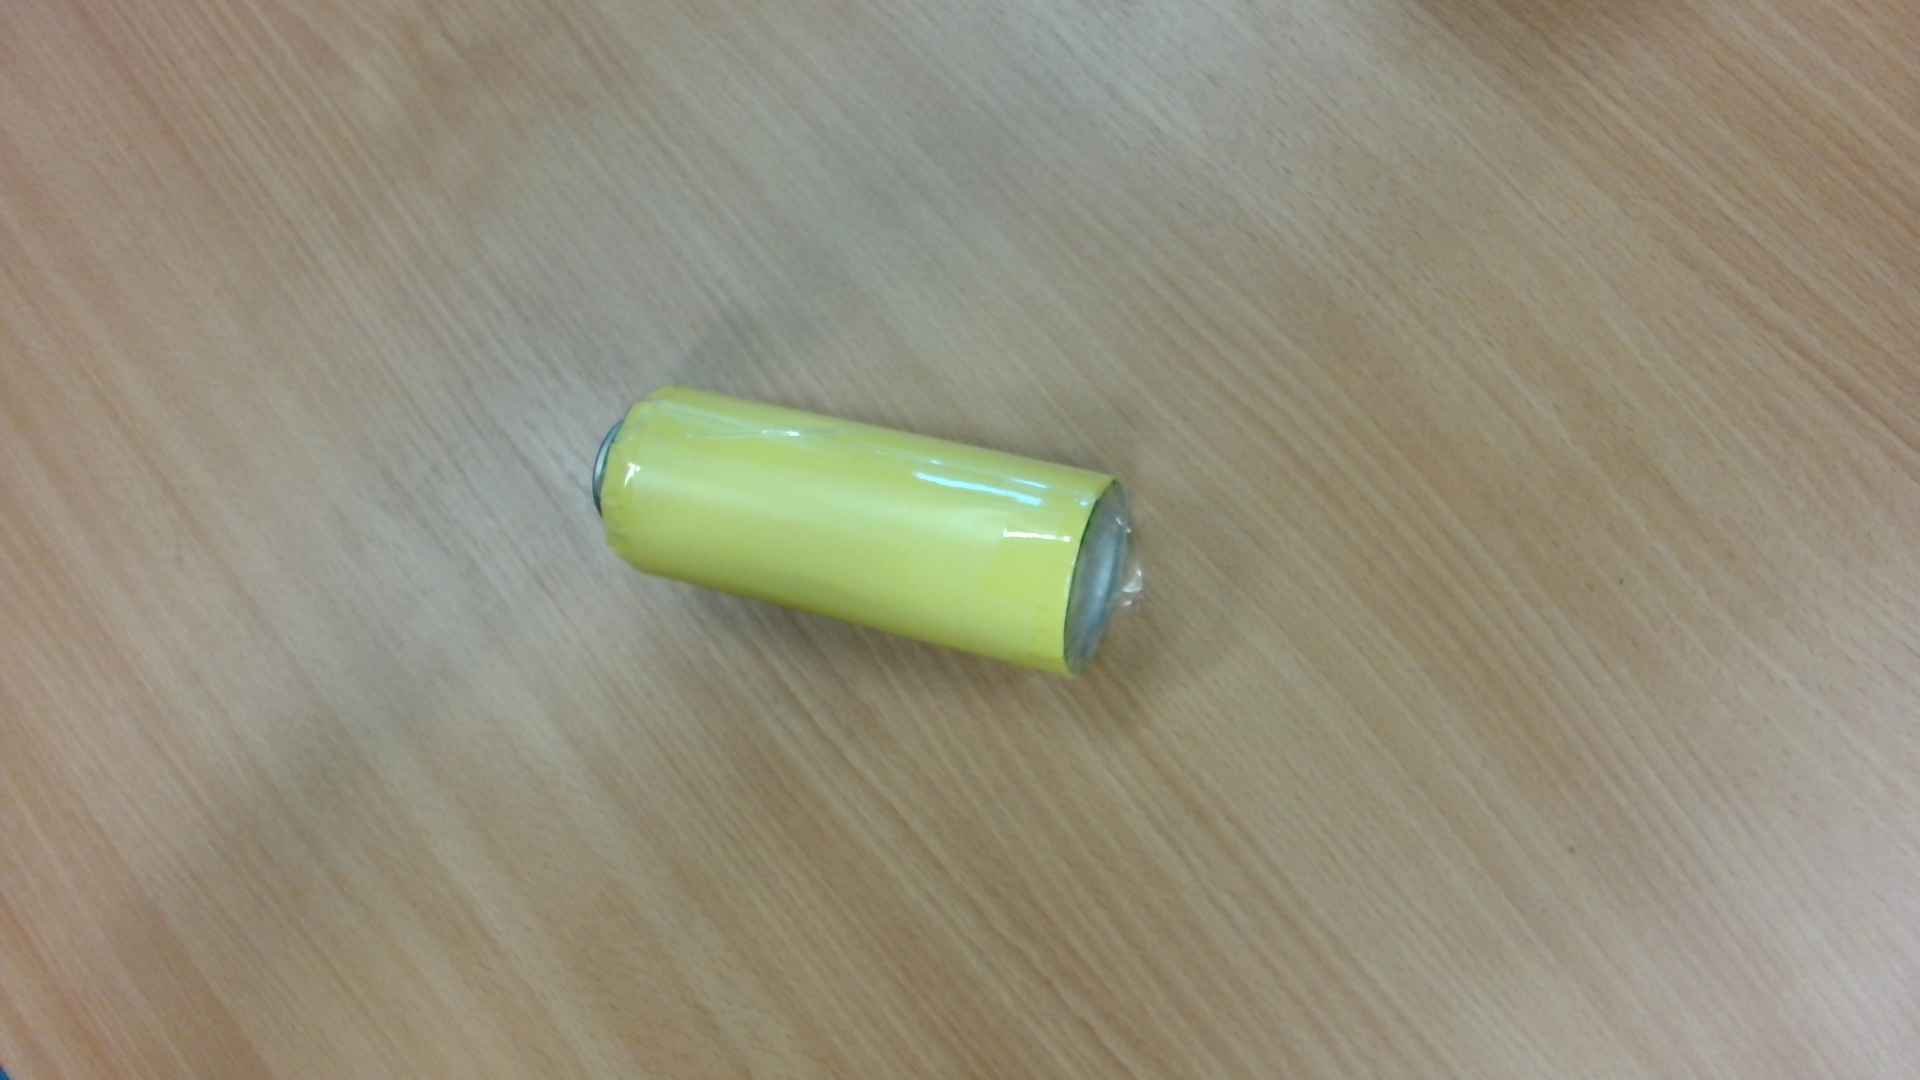Cylinder: (584, 373, 1155, 707)
